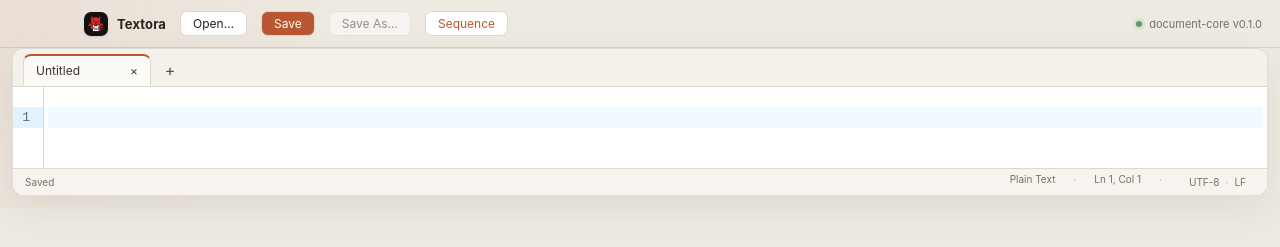
Test: App tab session › refreshes every associated tab on focus and updates a changed background tab
Step 1. Click the button with class "open-button" → [214, 24], box [180,11,247,36]
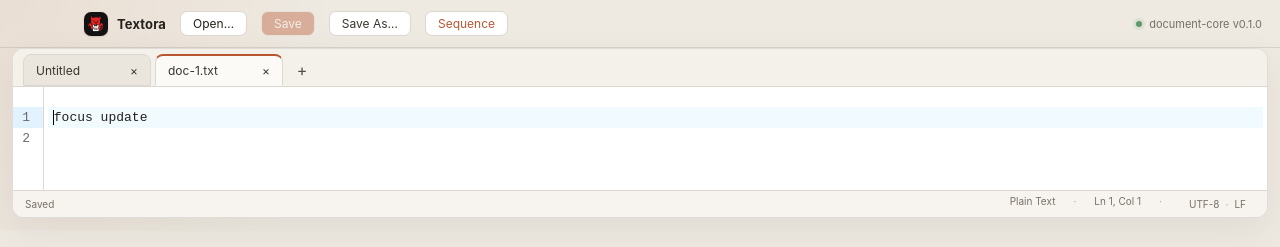
Step 2. Click the button with class "open-button" → [214, 24], box [180,11,247,36]
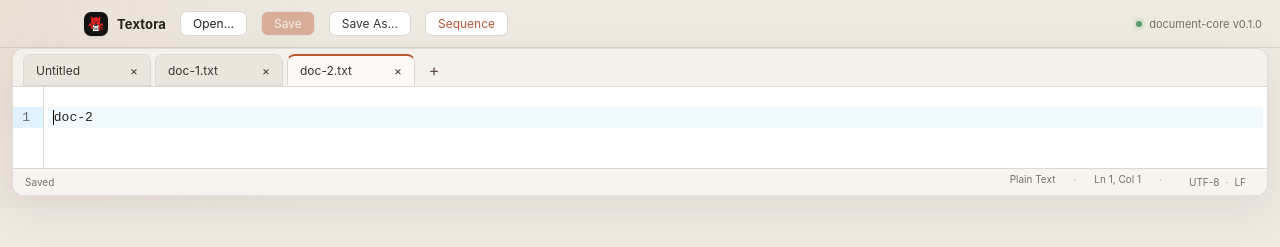
Expected: the element with class "is-active" shows "doc-2.txt", [288,56,385,85]
Step 3. Click the button with class "document-tab-select" showing "doc-1.txt" → [204, 70], box [156,55,253,85]
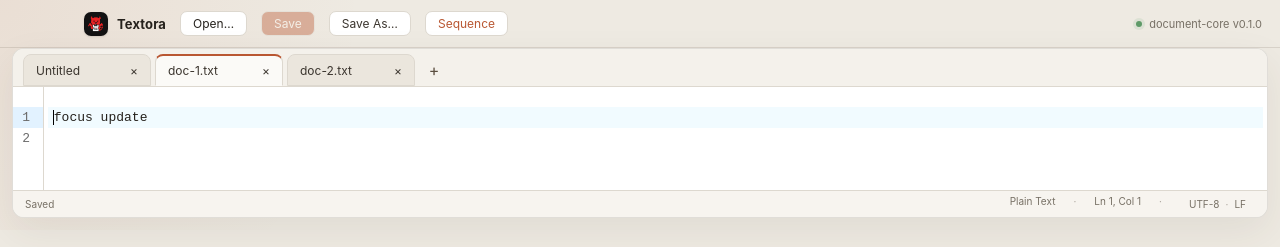
Expected: the field with class "cm-content" reads "focus update", [48,107,1263,128]
